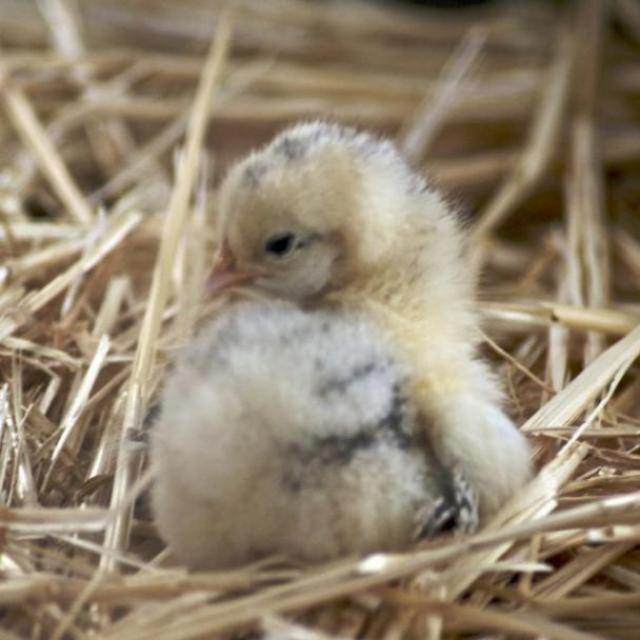Chicken: (154, 135, 522, 594)
